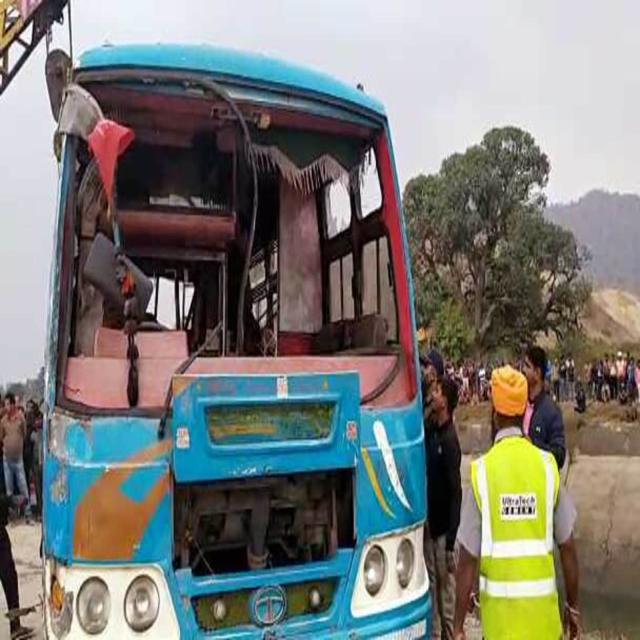accident: (41, 44, 430, 638)
